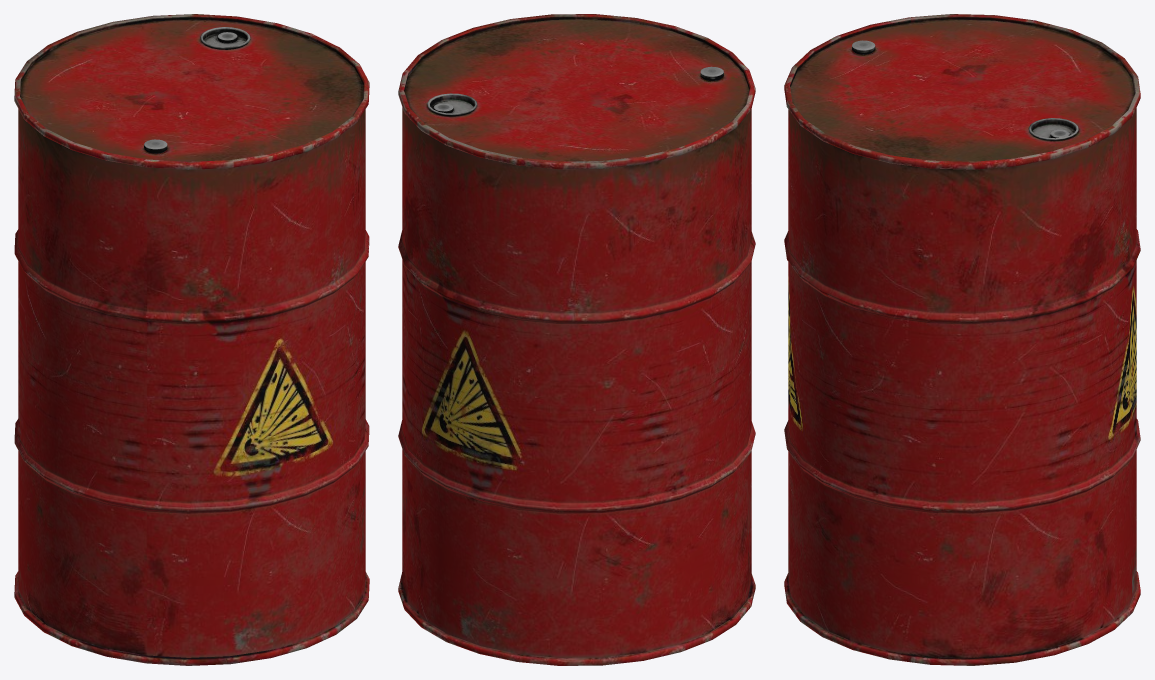
The model's file is Barrel_01.glb.
The picture shows the model from 3 angles, left to right: view 1: azimuth 30°, elevation 25°; view 2: azimuth 150°, elevation 25°; view 3: azimuth 270°, elevation 25°; orthographic projection.
Parts seen in each view (by area): view 1: Barrel_01; view 2: Barrel_01; view 3: Barrel_01.
Boxes of the visible parts, bbox=[...] form: Barrel_01: bbox=[14, 14, 369, 665]; Barrel_01: bbox=[398, 14, 755, 665]; Barrel_01: bbox=[784, 14, 1140, 665].
Size of the model in its own units: 0.5631 by 0.88 by 0.5631.
Materials: 1 (1 with a texture image).
